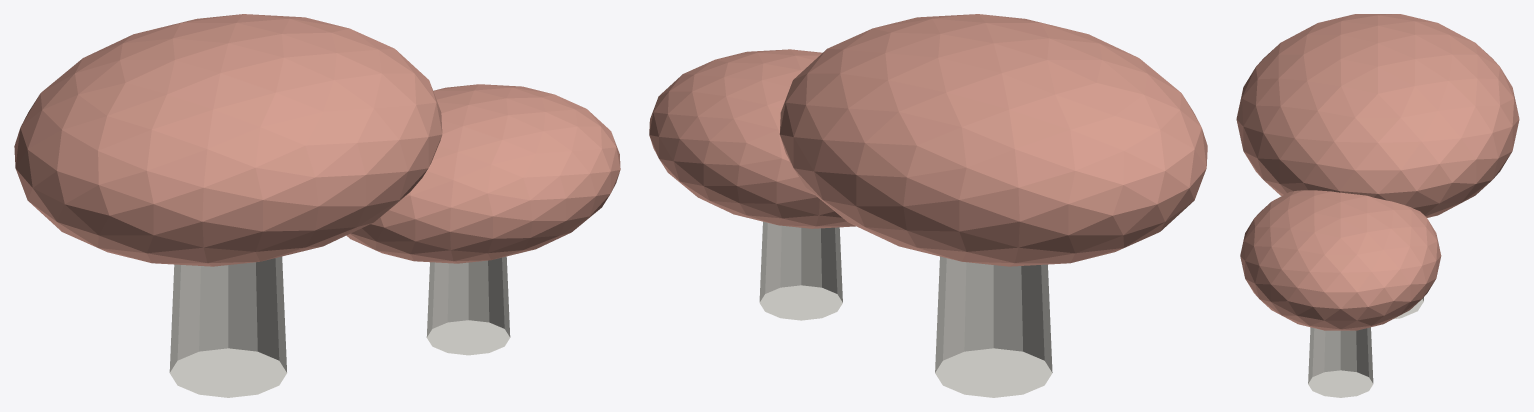
The model's file is mushroom_cluster.glb.
3 views of the same model, side by side, from view 1: azimuth 30°, elevation 25°; view 2: azimuth 150°, elevation 25°; view 3: azimuth 270°, elevation 25° (orthographic). The views are drawn at different scales.
Parts seen in each view (by area): view 1: mushroom_cluster_01_cap, mushroom_cluster_06_cap, mushroom_cluster_00_stem, mushroom_cluster_05_stem; view 2: mushroom_cluster_01_cap, mushroom_cluster_06_cap, mushroom_cluster_00_stem, mushroom_cluster_05_stem; view 3: mushroom_cluster_01_cap, mushroom_cluster_06_cap, mushroom_cluster_05_stem.
Boxes of the visible parts, bbox=[...] form: mushroom_cluster_01_cap: bbox=[14, 14, 442, 266]; mushroom_cluster_06_cap: bbox=[346, 84, 620, 263]; mushroom_cluster_00_stem: bbox=[169, 256, 286, 397]; mushroom_cluster_05_stem: bbox=[426, 256, 510, 355]; mushroom_cluster_01_cap: bbox=[779, 14, 1207, 266]; mushroom_cluster_06_cap: bbox=[649, 49, 855, 228]; mushroom_cluster_00_stem: bbox=[935, 256, 1052, 397]; mushroom_cluster_05_stem: bbox=[759, 221, 842, 320]; mushroom_cluster_01_cap: bbox=[1236, 14, 1519, 217]; mushroom_cluster_06_cap: bbox=[1240, 190, 1441, 330]; mushroom_cluster_05_stem: bbox=[1308, 327, 1373, 397].
Size of the model in its own units: 1.07 by 0.612 by 0.608.
